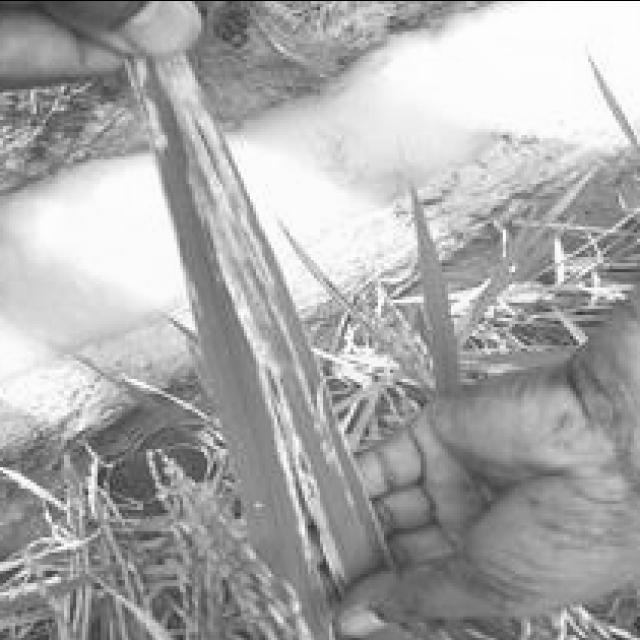Bacterial_Leaf_Blight: (210, 125, 348, 588)
